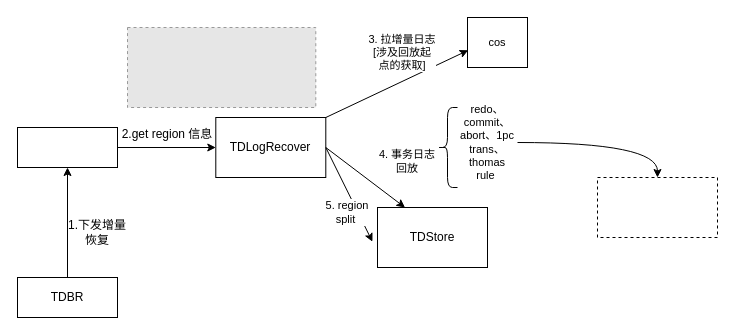
This 735x335 diagram has some shape labels left out. Grey dashed boxes stand in for pictures. Here are the shapes that lost their labels. From the top down, the box of each, then its label:
(16, 126, 118, 168): TDStoreAgent
(596, 176, 718, 238): 回放终止?
